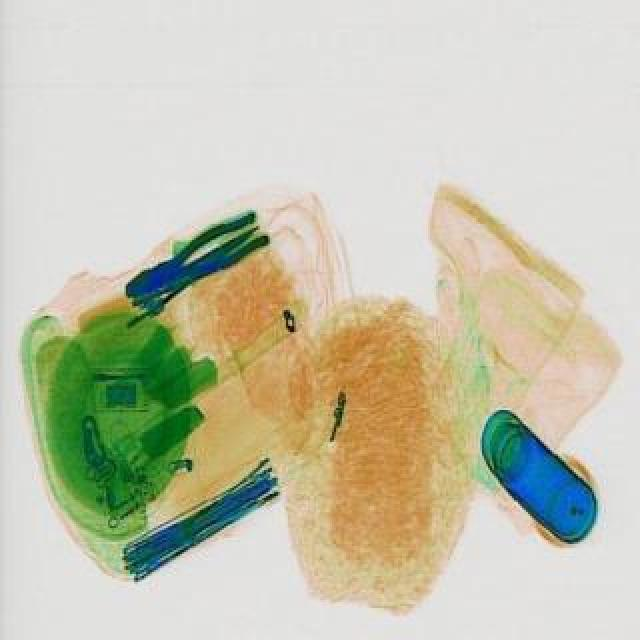wrench: (112, 204, 274, 308)
